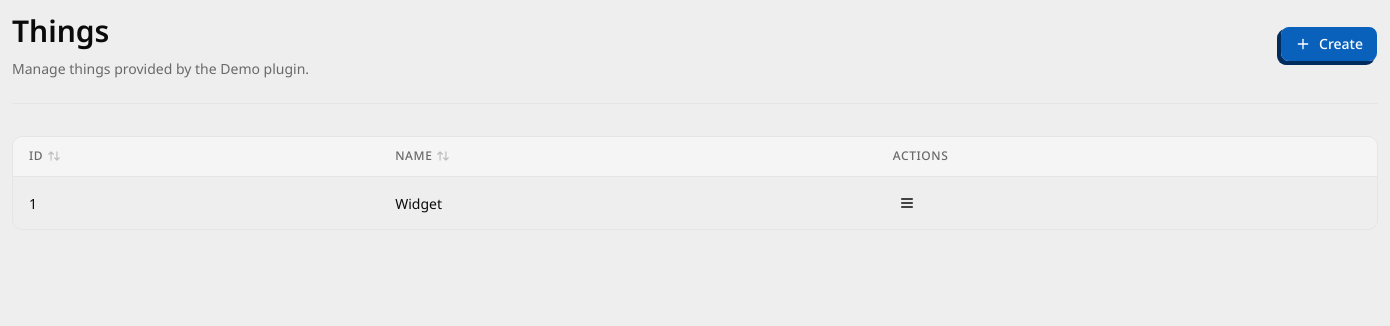
Test: a capability the server denied (#951) › keeps the row-actions menu even when BOTH item actions are denied
Check: the text "Widget" is shown, box x1=379 y1=176 x2=877 y2=229
Click the button named "Row actions" at x=907, y=203, box x1=893 y1=189 x2=921 y2=217
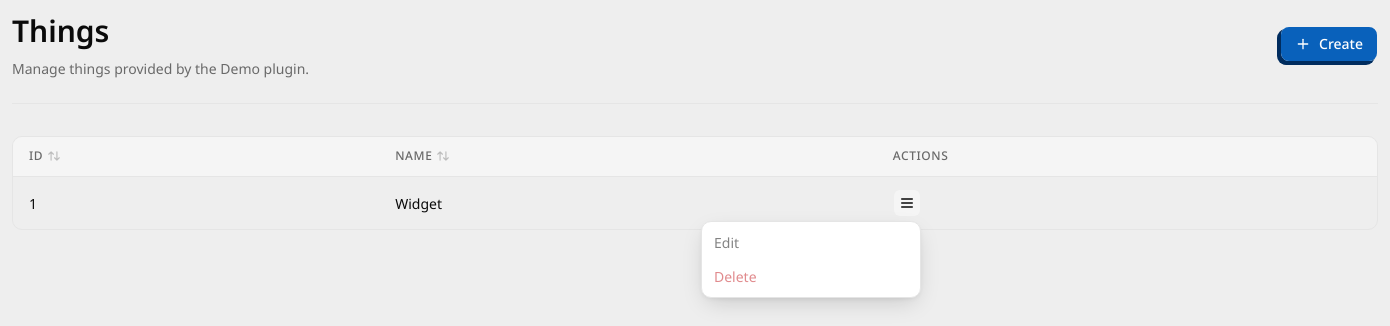
Check: the menu is shown, box x1=701 y1=221 x2=921 y2=298
